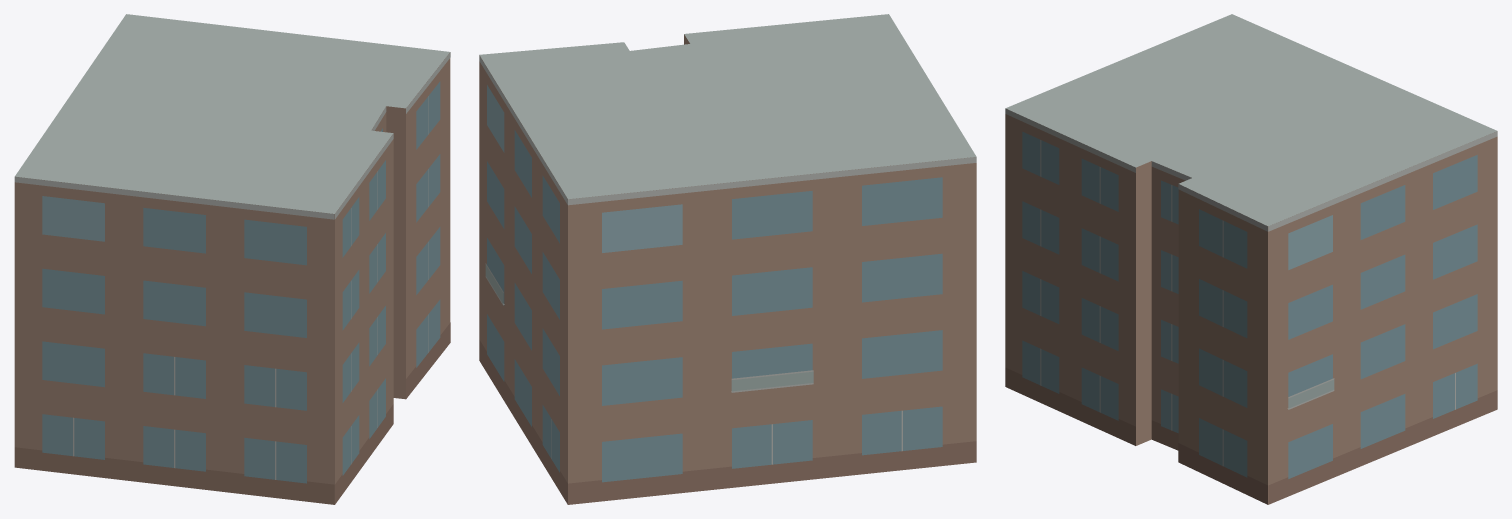
File: survey-upis-32777625.glb
3 views of the same model, side by side, from view 1: azimuth 30°, elevation 25°; view 2: azimuth 150°, elevation 25°; view 3: azimuth 270°, elevation 25° (orthographic). The views are drawn at different scales.
Parts seen in each view (by area): view 1: survey-upis-32777625.tmp; view 2: survey-upis-32777625.tmp; view 3: survey-upis-32777625.tmp.
Boxes of the visible parts, x1,y1,x2,y2 form: survey-upis-32777625.tmp: [14, 14, 450, 504]; survey-upis-32777625.tmp: [479, 14, 976, 504]; survey-upis-32777625.tmp: [1005, 14, 1497, 504].
Size of the model in its own units: 20.29 by 12.4 by 19.87.
